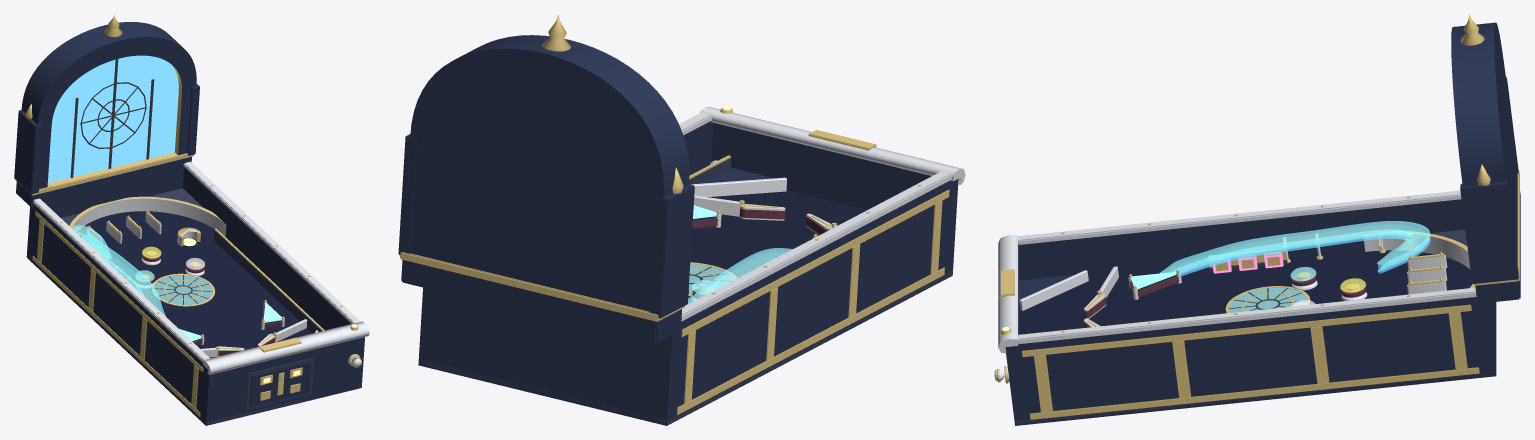
The model's file is pinball_table.glb.
The picture shows the model from 3 angles, left to right: view 1: azimuth 30°, elevation 25°; view 2: azimuth 150°, elevation 25°; view 3: azimuth 270°, elevation 25°; orthographic projection. The views are drawn at different scales.
Visible parts, largest first — view 1: Cabinet_Backbox_Arch, Playfield_Deck, Backglass_StainedGlass, Cabinet_Wall_Left, Cabinet_Wall_Front, Cabinet_Wall_Right, Upper_Orbit_Arch, Cabinet_Lockdown_Bar, Cabinet_Wall_Rear, Cabinet_Rail_Left, Cabinet_Rail_Right, Backglass_Tracery (+7 smaller); view 2: Cabinet_Backbox_Arch, Cabinet_Wall_Left, Cabinet_Wall_Rear, Cabinet_Wall_Front, Playfield_Deck, Cabinet_Lockdown_Bar, Cabinet_Rail_Left, Cabinet_Floor, Cabinet_Wall_Right, Drain_Guide_Right, Ramp_StainedGlass, Flipper_Blade_Right (+4 smaller); view 3: Cabinet_Wall_Right, Cabinet_Backbox_Arch, Cabinet_Wall_Left, Playfield_Deck, Ramp_StainedGlass, Cabinet_Rail_Right, Cabinet_Rail_Left, Cabinet_Lockdown_Bar, Upper_Orbit_Arch, Drain_Guide_Left, RoseWindow_Insert, Cabinet_Floor (+4 smaller).
Part boxes in pixels (x1,y1,x2,y2): Cabinet_Backbox_Arch: [14, 14, 199, 207]; Playfield_Deck: [77, 211, 312, 358]; Backglass_StainedGlass: [48, 55, 178, 183]; Cabinet_Wall_Left: [26, 204, 214, 425]; Cabinet_Wall_Front: [211, 338, 359, 424]; Cabinet_Wall_Right: [182, 167, 364, 389]; Upper_Orbit_Arch: [61, 188, 226, 236]; Cabinet_Lockdown_Bar: [203, 321, 369, 374]; Cabinet_Wall_Rear: [46, 170, 183, 217]; Cabinet_Rail_Left: [33, 198, 209, 362]; Cabinet_Rail_Right: [183, 161, 360, 323]; Backglass_Tracery: [70, 59, 154, 177]; Cabinet_Backbox_Arch: [398, 14, 694, 343]; Cabinet_Wall_Left: [658, 179, 958, 425]; Cabinet_Wall_Rear: [427, 289, 662, 423]; Cabinet_Wall_Front: [711, 123, 931, 209]; Playfield_Deck: [687, 190, 866, 304]; Cabinet_Lockdown_Bar: [700, 106, 965, 184]; Cabinet_Rail_Left: [681, 171, 952, 321]; Cabinet_Floor: [419, 270, 952, 424]; Cabinet_Wall_Right: [418, 121, 713, 367]; Drain_Guide_Right: [691, 167, 786, 196]; Ramp_StainedGlass: [685, 248, 792, 305]; Flipper_Blade_Right: [740, 204, 785, 220]; Cabinet_Wall_Right: [1005, 297, 1496, 425]; Cabinet_Backbox_Arch: [1451, 14, 1520, 303]; Cabinet_Wall_Left: [1018, 199, 1465, 280]; Playfield_Deck: [1019, 250, 1472, 334]; Ramp_StainedGlass: [1159, 221, 1430, 276]; Cabinet_Rail_Right: [1017, 287, 1476, 343]; Cabinet_Rail_Left: [1017, 190, 1461, 244]; Cabinet_Lockdown_Bar: [998, 235, 1018, 353]; Upper_Orbit_Arch: [1364, 229, 1475, 288]; Drain_Guide_Left: [1019, 270, 1088, 310]; RoseWindow_Insert: [1229, 287, 1307, 312]; Cabinet_Floor: [1015, 371, 1494, 424].
Bounding box in the file's own units: 0.593 × 0.9162 × 1.21.
